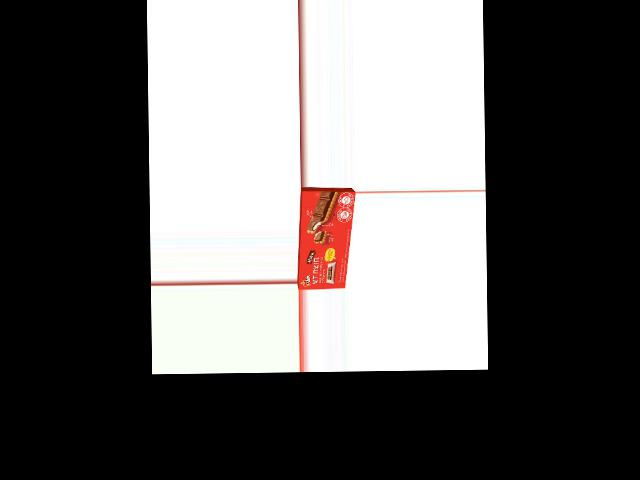chocolate: (300, 187, 350, 290)
